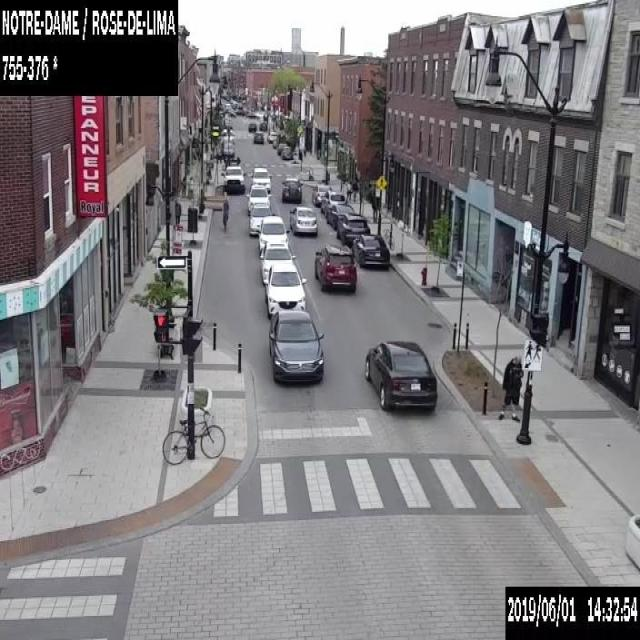cyclist: (221, 197, 228, 231)
pedestrian: (498, 354, 524, 421), (174, 199, 181, 225), (345, 181, 352, 200)
vehicle: (364, 340, 437, 408), (268, 309, 323, 384), (263, 262, 306, 318), (314, 244, 356, 292), (258, 240, 296, 284), (351, 234, 389, 268), (256, 214, 289, 253), (336, 212, 370, 245), (220, 157, 245, 194), (247, 201, 274, 234), (288, 205, 317, 235), (244, 183, 271, 212), (320, 189, 345, 216), (326, 203, 354, 227), (280, 177, 301, 202), (251, 166, 271, 192), (311, 184, 332, 204), (280, 145, 292, 159), (222, 143, 234, 156), (276, 142, 287, 154), (266, 131, 277, 142), (253, 131, 263, 143), (258, 120, 266, 130), (245, 112, 258, 118), (248, 121, 255, 131), (225, 109, 235, 116), (272, 138, 277, 147)
